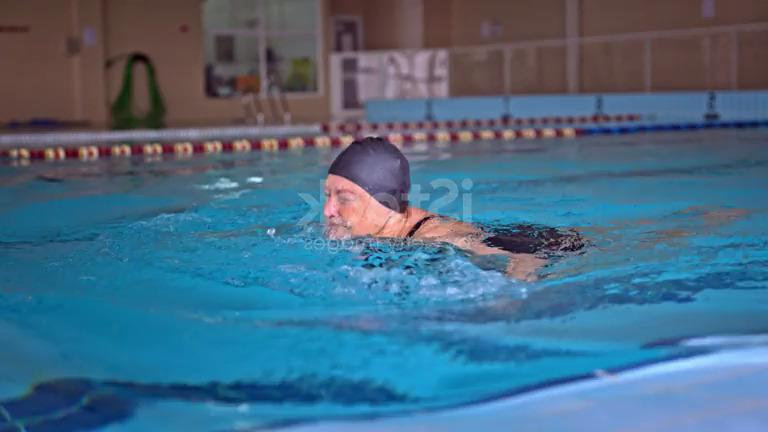Swimming: (242, 68, 690, 314)
